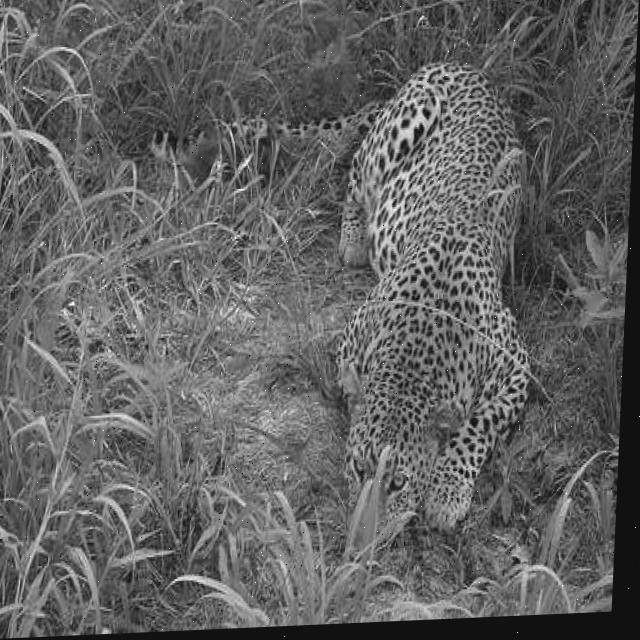Leopard: (134, 53, 547, 560)
